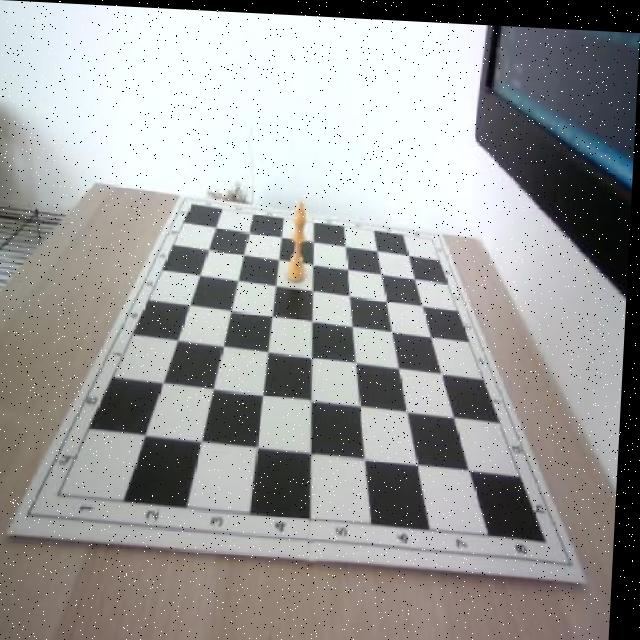black-rook: (287, 199, 312, 279)
